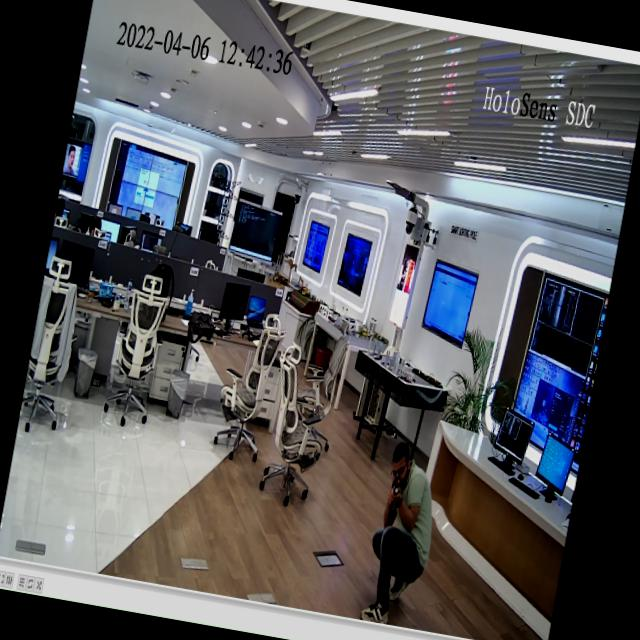long weapon: (384, 472, 404, 514)
